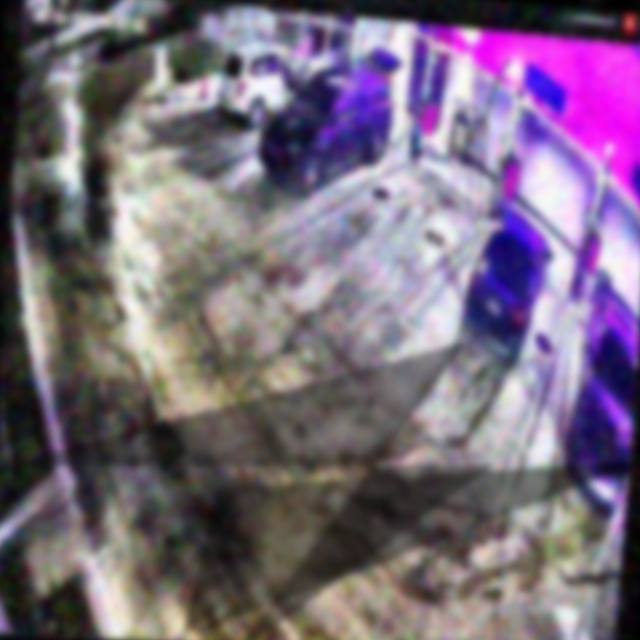Car: (254, 34, 403, 205), (459, 207, 555, 366)
